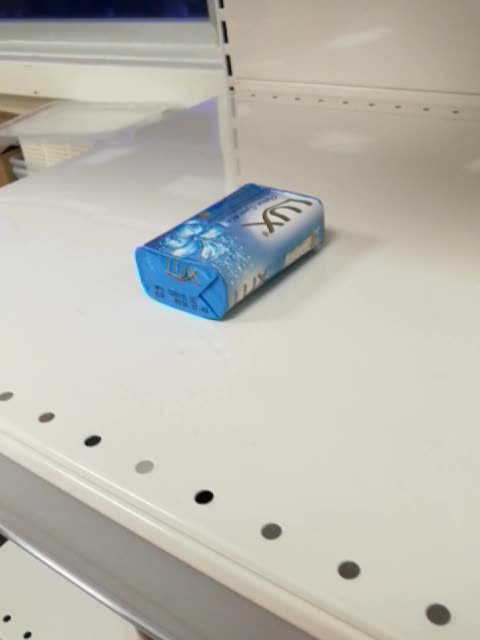soap: (133, 182, 330, 324)
